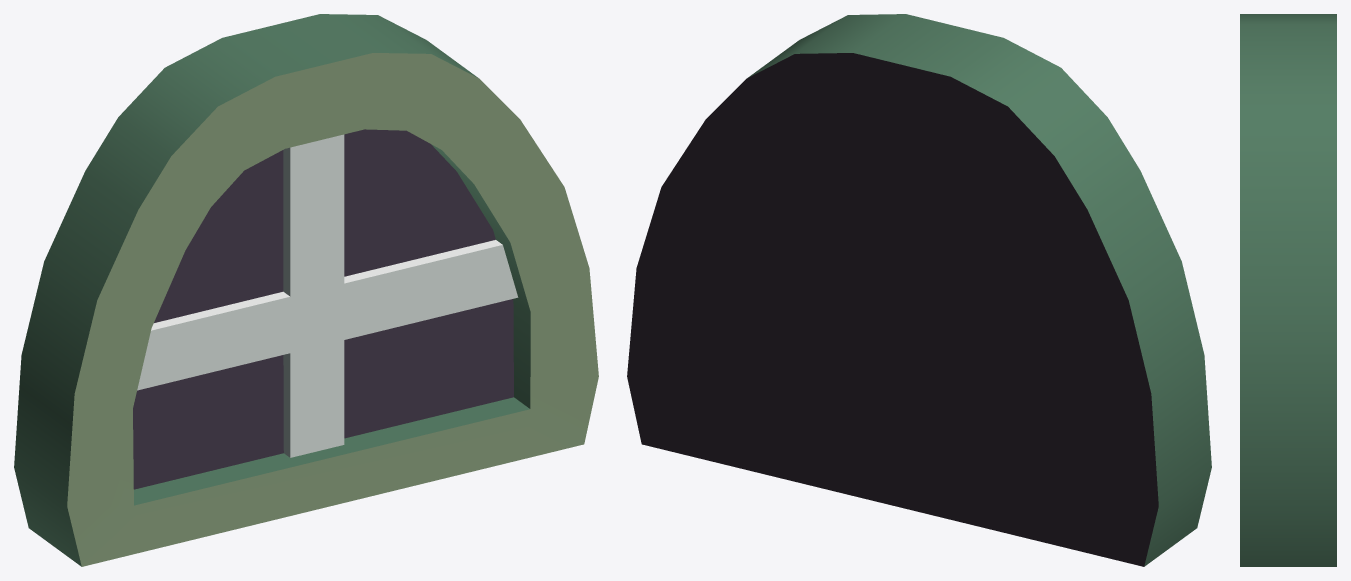
The model's file is Window03_Green_White.glb.
3 views of the same model, side by side, from view 1: azimuth 30°, elevation 25°; view 2: azimuth 150°, elevation 25°; view 3: azimuth 270°, elevation 25° (orthographic). The views are drawn at different scales.
Visible parts, largest first — view 1: Window03_Green_White; view 2: Window03_Green_White; view 3: Window03_Green_White.
Boxes of the visible parts, left/top/right/bottom form: Window03_Green_White: left=14, top=14, right=598, bottom=566; Window03_Green_White: left=627, top=14, right=1211, bottom=566; Window03_Green_White: left=1240, top=14, right=1336, bottom=566.
Size of the model in its own units: 0.9047 by 0.7203 by 0.1565.
Materials: 1 (1 with a texture image).
